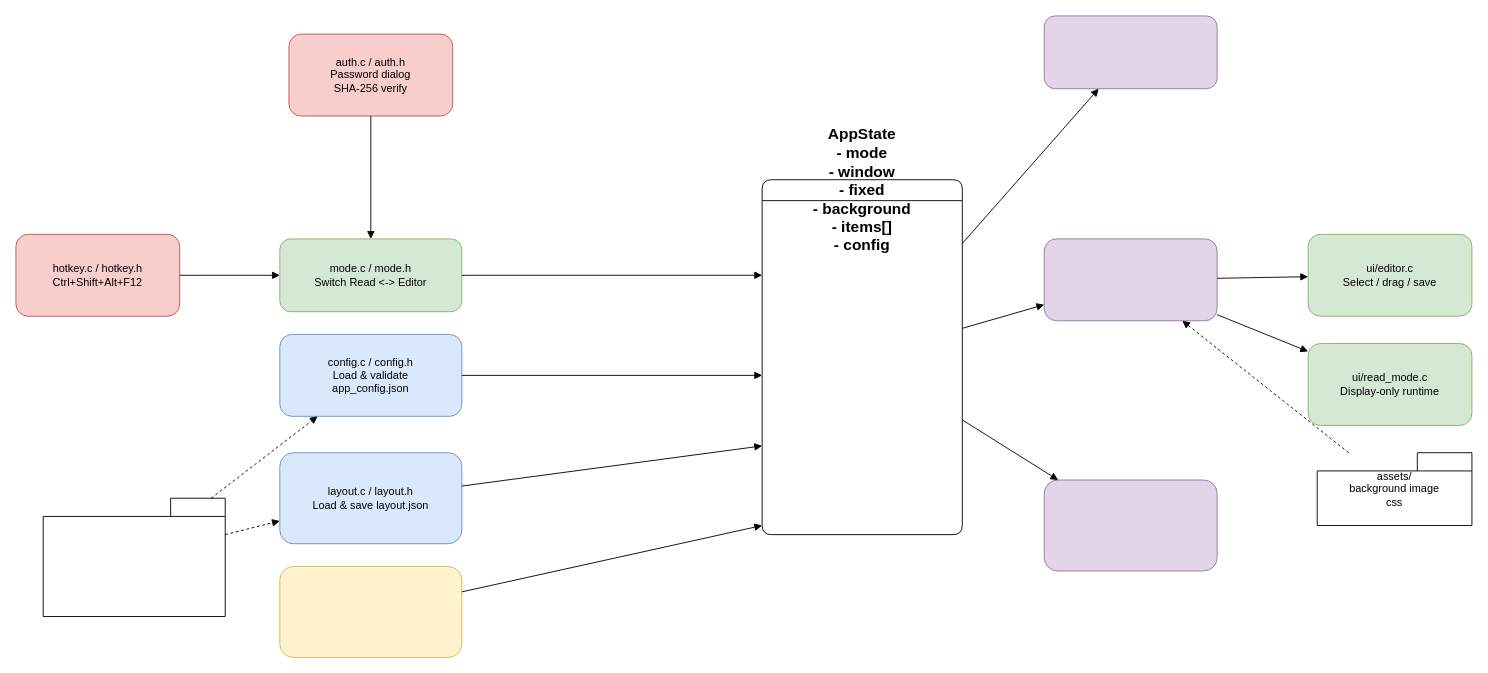
The diagram is 1488 pixels wide and 673 high, and some of its shapes have lost their labels. Here are the shapes that lost their labels. From the top down, the centre of each, then its label:
At point (1130, 52): "ui/window.c Create fullscreen window".
At point (1130, 279): "ui/canvas.c GtkFixed canvas Background + item placement".
At point (1130, 525): "ui/value_item.c Create/update value box".
At point (133, 557): "config/ app_config.json layout.json state.json".
At point (370, 611): "uart.c / uart.h Serial read Parse frame Publish updates".
